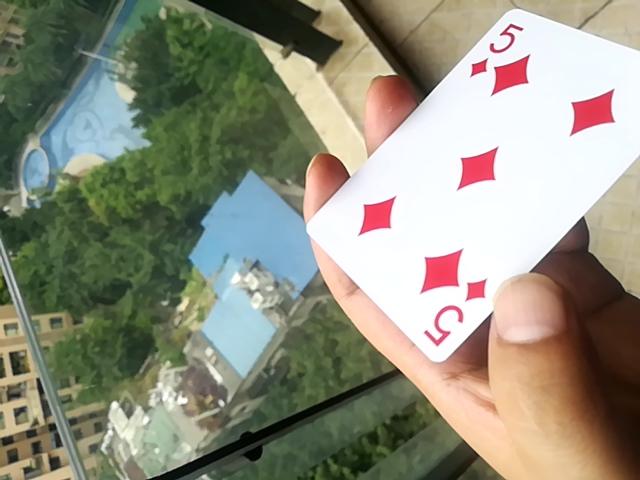fk 5: (298, 11, 640, 371)
